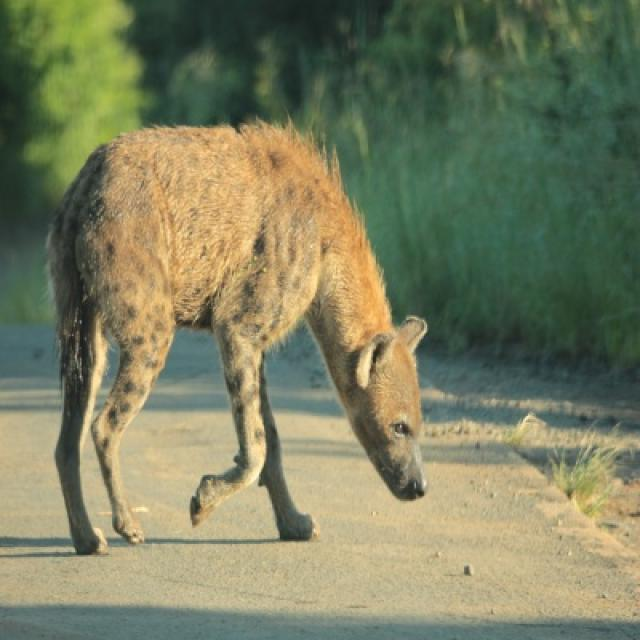hyena: (46, 120, 429, 558)
